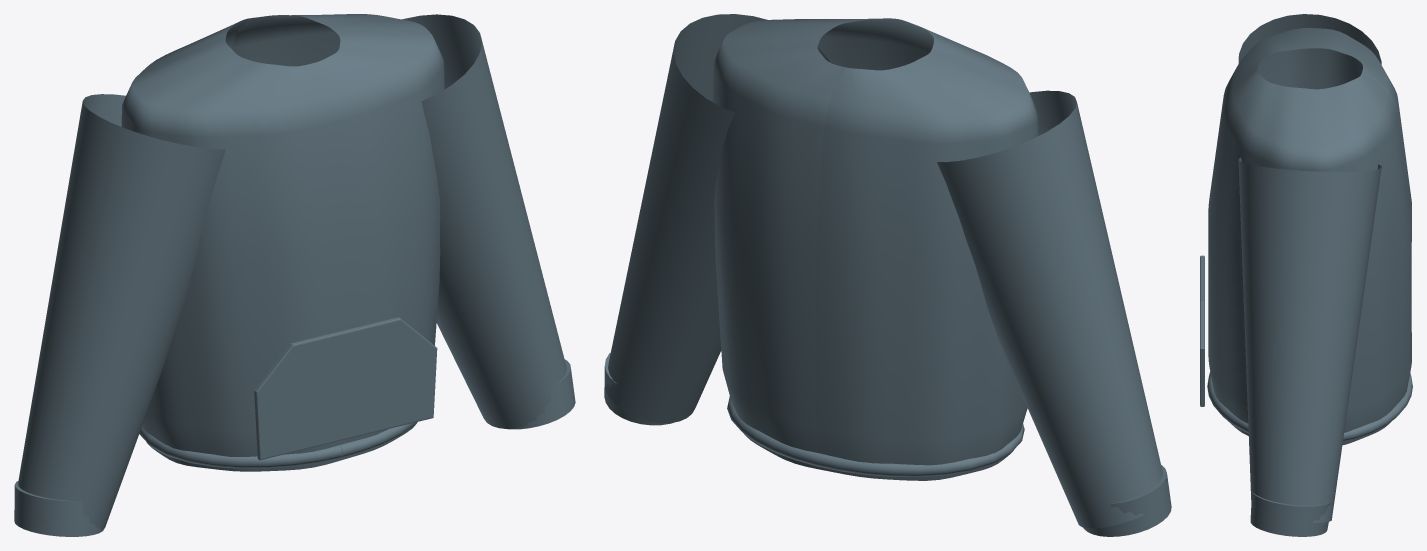
File: sweat-horizon-femme.glb
The picture shows the model from 3 angles, left to right: view 1: azimuth 30°, elevation 25°; view 2: azimuth 150°, elevation 25°; view 3: azimuth 270°, elevation 25°; orthographic projection. The views are drawn at different scales.
Parts seen in each view (by area): view 1: edit-05, long-sleeve (×2); view 2: edit-05, long-sleeve (×2); view 3: edit-05, long-sleeve (×2).
Part boxes in pixels (<box>): edit-05: <box>14,14,575,536</box>; long-sleeve (×2): <box>18,14,566,529</box>; edit-05: <box>604,18,1171,536</box>; long-sleeve (×2): <box>604,14,1162,528</box>; edit-05: <box>1200,28,1412,536</box>; long-sleeve (×2): <box>1238,14,1381,522</box>.
Bounding box in the file's own units: 0.7702 × 0.5712 × 0.3018.
